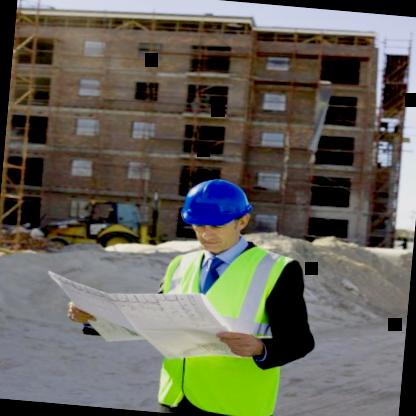helmet: (172, 167, 262, 259)
